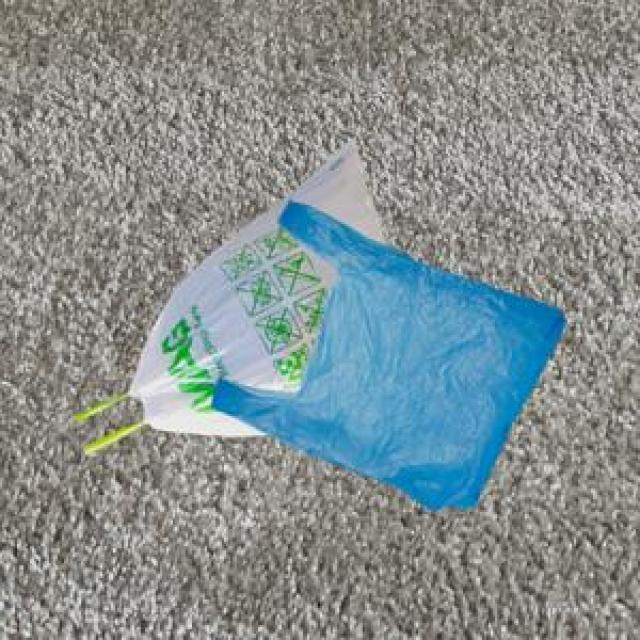waste: (131, 201, 565, 509)
